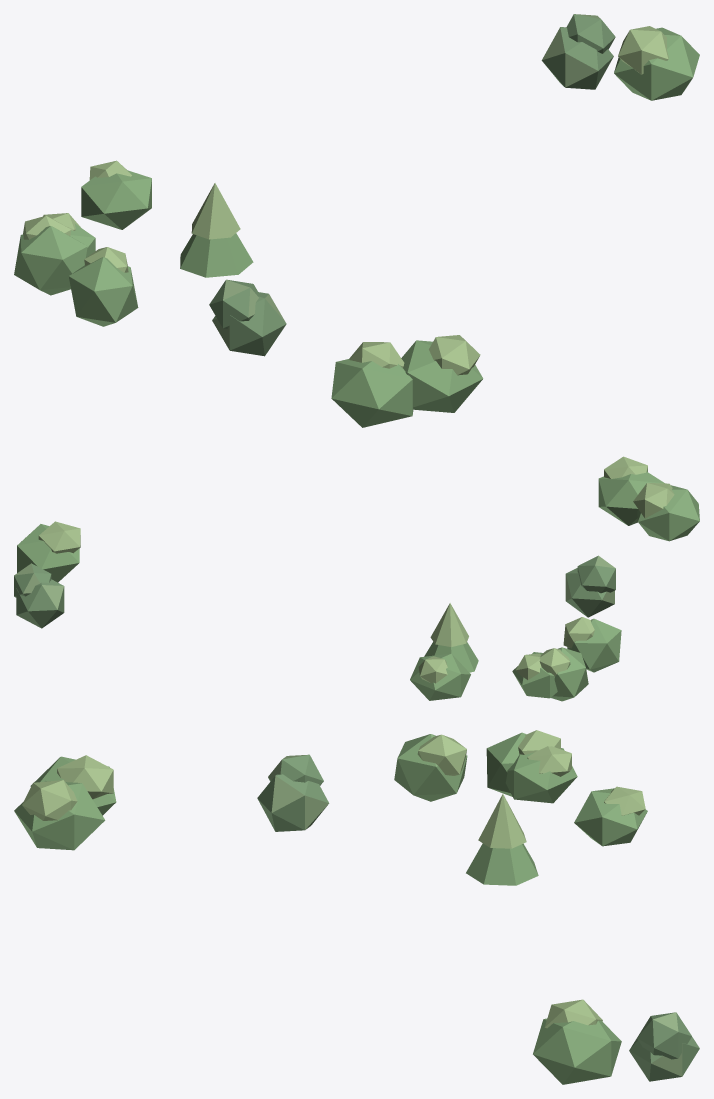
Rendered from deep_clearing_wind_canopies.fbx.
3 views of the same model, one above another, from view 1: azimuth 30°, elevation 25°; view 2: azimuth 150°, elevation 25°; view 3: azimuth 270°, elevation 25° (orthographic). The views are drawn at different scales.
Parts seen in each view (by area): view 1: chunk_deep_clearing__tree_canopy_07, chunk_deep_clearing__detail_scatter_tree_01_canopy, chunk_deep_clearing__detail_scatter_tree_02_canopy, chunk_deep_clearing__tree_canopy_03, chunk_deep_clearing__tree_canopy_01, chunk_deep_clearing__tree_canopy_11, chunk_deep_clearing__tree_canopy_09, chunk_deep_clearing__tree_canopy_16, chunk_deep_clearing__tree_canopy_12, chunk_deep_clearing__tree_canopy_13, chunk_deep_clearing__tree_canopy_15, chunk_deep_clearing__tree_canopy_14 (+1 smaller); view 2: chunk_deep_clearing__detail_scatter_tree_02_canopy, chunk_deep_clearing__detail_scatter_tree_01_canopy, chunk_deep_clearing__tree_canopy_07, chunk_deep_clearing__tree_canopy_11, chunk_deep_clearing__tree_canopy_16, chunk_deep_clearing__tree_canopy_03, chunk_deep_clearing__tree_canopy_09, chunk_deep_clearing__tree_canopy_01, chunk_deep_clearing__tree_canopy_15, chunk_deep_clearing__tree_canopy_13, chunk_deep_clearing__tree_canopy_08, chunk_deep_clearing__tree_canopy_05 (+6 smaller); view 3: chunk_deep_clearing__tree_canopy_16, chunk_deep_clearing__detail_scatter_tree_01_canopy, chunk_deep_clearing__detail_scatter_tree_02_canopy, chunk_deep_clearing__tree_canopy_11, chunk_deep_clearing__tree_canopy_03, chunk_deep_clearing__tree_canopy_09, chunk_deep_clearing__tree_canopy_12, chunk_deep_clearing__tree_canopy_05, chunk_deep_clearing__tree_canopy_14, chunk_deep_clearing__tree_canopy_08, chunk_deep_clearing__tree_canopy_13, chunk_deep_clearing__tree_canopy_01 (+6 smaller).
Boxes of the visible parts, box(x1,y1,x2,y2) form: chunk_deep_clearing__tree_canopy_07: box(331, 358, 413, 427); chunk_deep_clearing__detail_scatter_tree_01_canopy: box(209, 279, 286, 356); chunk_deep_clearing__detail_scatter_tree_02_canopy: box(541, 14, 615, 89); chunk_deep_clearing__tree_canopy_03: box(68, 257, 138, 326); chunk_deep_clearing__tree_canopy_01: box(14, 226, 87, 295); chunk_deep_clearing__tree_canopy_11: box(401, 340, 483, 412); chunk_deep_clearing__tree_canopy_09: box(81, 170, 151, 229); chunk_deep_clearing__tree_canopy_16: box(614, 27, 699, 100); chunk_deep_clearing__tree_canopy_12: box(180, 233, 253, 277); chunk_deep_clearing__tree_canopy_13: box(191, 183, 240, 239); chunk_deep_clearing__tree_canopy_15: box(618, 26, 668, 74); chunk_deep_clearing__tree_canopy_14: box(429, 335, 480, 375); chunk_deep_clearing__detail_scatter_tree_02_canopy: box(14, 563, 64, 628); chunk_deep_clearing__detail_scatter_tree_01_canopy: box(565, 555, 615, 617); chunk_deep_clearing__tree_canopy_07: box(637, 485, 699, 541); chunk_deep_clearing__tree_canopy_11: box(598, 472, 664, 525); chunk_deep_clearing__tree_canopy_16: box(17, 524, 79, 582); chunk_deep_clearing__tree_canopy_03: box(567, 618, 621, 672); chunk_deep_clearing__tree_canopy_09: box(410, 653, 470, 700); chunk_deep_clearing__tree_canopy_01: box(551, 647, 588, 701); chunk_deep_clearing__tree_canopy_15: box(38, 521, 80, 553); chunk_deep_clearing__tree_canopy_13: box(430, 603, 468, 646); chunk_deep_clearing__tree_canopy_08: box(633, 483, 674, 518); chunk_deep_clearing__tree_canopy_05: box(512, 652, 557, 698); chunk_deep_clearing__tree_canopy_16: box(533, 1018, 621, 1084); chunk_deep_clearing__detail_scatter_tree_01_canopy: box(257, 754, 329, 831); chunk_deep_clearing__detail_scatter_tree_02_canopy: box(629, 1012, 699, 1081); chunk_deep_clearing__tree_canopy_11: box(14, 780, 105, 850); chunk_deep_clearing__tree_canopy_03: box(394, 734, 467, 801); chunk_deep_clearing__tree_canopy_09: box(574, 788, 647, 846); chunk_deep_clearing__tree_canopy_12: box(466, 843, 538, 885); chunk_deep_clearing__tree_canopy_05: box(505, 748, 577, 803); chunk_deep_clearing__tree_canopy_14: box(22, 780, 77, 820); chunk_deep_clearing__tree_canopy_08: box(57, 755, 113, 799); chunk_deep_clearing__tree_canopy_13: box(478, 794, 526, 848); chunk_deep_clearing__tree_canopy_01: box(486, 732, 526, 796).
Bounding box in the file's own units: 191 × 24.28 × 164.
